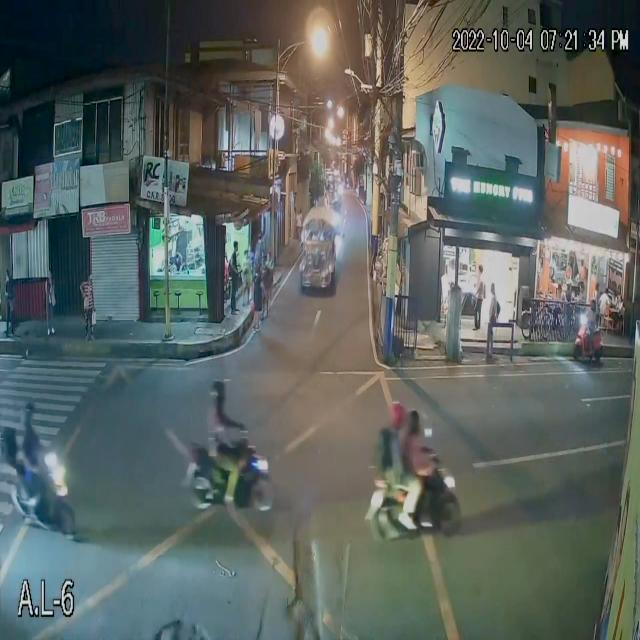Full-Faced: (210, 375, 230, 406), (21, 399, 38, 430), (405, 408, 423, 436), (390, 397, 404, 429)
